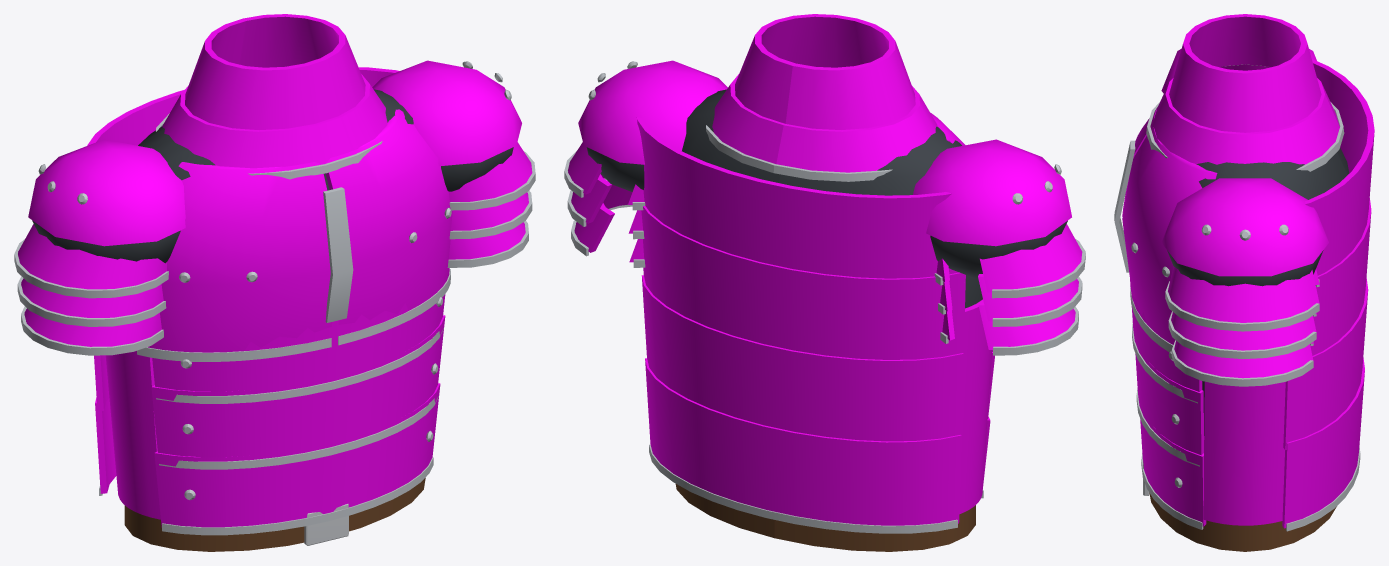
File: objet_armure2_plastron.glb
The picture shows the model from 3 angles, left to right: view 1: azimuth 30°, elevation 25°; view 2: azimuth 150°, elevation 25°; view 3: azimuth 270°, elevation 25°; orthographic projection. The views are drawn at different scales.
Parts seen in each view (by area): view 1: poitrine__plastron_teinte.010, ventre__plastron_teinte.010, poitrine__plastron_rivet.004, ventre__plastron_rivet.006, poitrine__plastron_teinte_sombre.008, ventre__plastron_sac_cuir.004, ventre__plastron_boucle.004; view 2: poitrine__plastron_teinte.010, ventre__plastron_teinte.010, poitrine__plastron_teinte_sombre.008, poitrine__plastron_rivet.004, ventre__plastron_sac_cuir.004, ventre__plastron_rivet.006; view 3: poitrine__plastron_teinte.010, ventre__plastron_teinte.010, poitrine__plastron_rivet.004, poitrine__plastron_teinte_sombre.008, ventre__plastron_sac_cuir.004, ventre__plastron_rivet.006.
Boxes of the visible parts, x1,y1,x2,y2 form: poitrine__plastron_teinte.010: (18, 14, 532, 352); ventre__plastron_teinte.010: (94, 294, 445, 527); poitrine__plastron_rivet.004: (14, 61, 535, 361); ventre__plastron_rivet.006: (99, 297, 443, 535); poitrine__plastron_teinte_sombre.008: (32, 89, 513, 263); ventre__plastron_sac_cuir.004: (124, 478, 425, 551); ventre__plastron_boucle.004: (304, 504, 348, 545); poitrine__plastron_teinte.010: (568, 14, 1082, 359); ventre__plastron_teinte.010: (641, 275, 994, 525); poitrine__plastron_teinte_sombre.008: (586, 89, 1067, 308); poitrine__plastron_rivet.004: (564, 61, 1085, 355); ventre__plastron_sac_cuir.004: (675, 484, 975, 551); ventre__plastron_rivet.006: (649, 444, 983, 533); poitrine__plastron_teinte.010: (1122, 14, 1374, 378); ventre__plastron_teinte.010: (1130, 278, 1368, 528); poitrine__plastron_rivet.004: (1114, 64, 1344, 386); poitrine__plastron_teinte_sombre.008: (1167, 147, 1349, 286); ventre__plastron_sac_cuir.004: (1149, 493, 1336, 551); ventre__plastron_rivet.006: (1132, 323, 1360, 531).
Size of the model in its own units: 0.4163 by 0.3672 by 0.1956.
